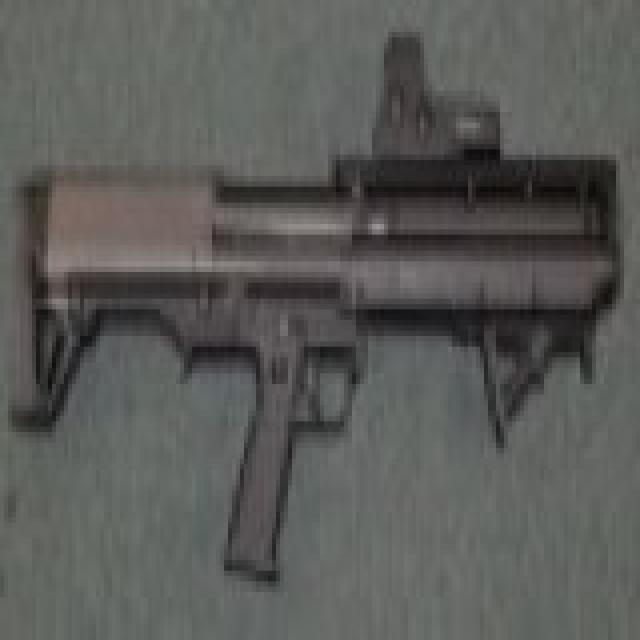Gun: (8, 75, 586, 578)
